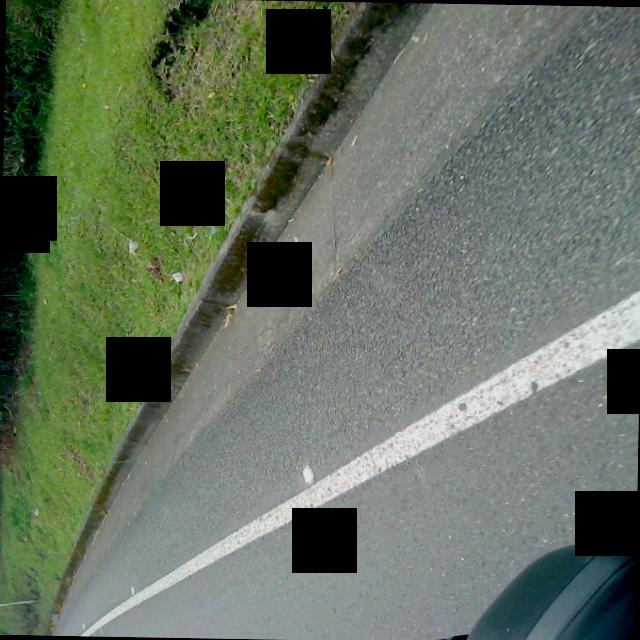DITCH: (34, 0, 640, 640), (46, 0, 640, 640), (91, 0, 640, 640)
